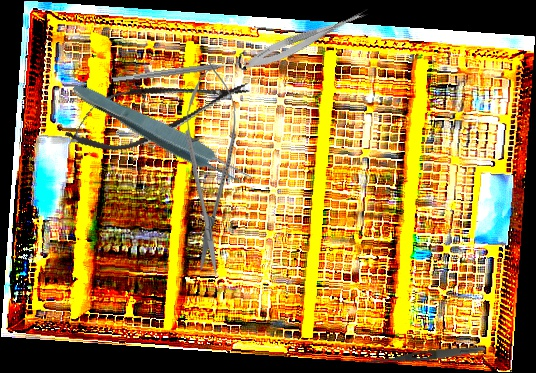Dressing Forceps: (363, 343, 486, 369)
Fixation Ring: (111, 50, 247, 91)
Micro Scissor: (57, 58, 258, 164), (181, 62, 239, 275), (240, 1, 372, 76)
Tissue Forceps: (67, 76, 257, 194)
